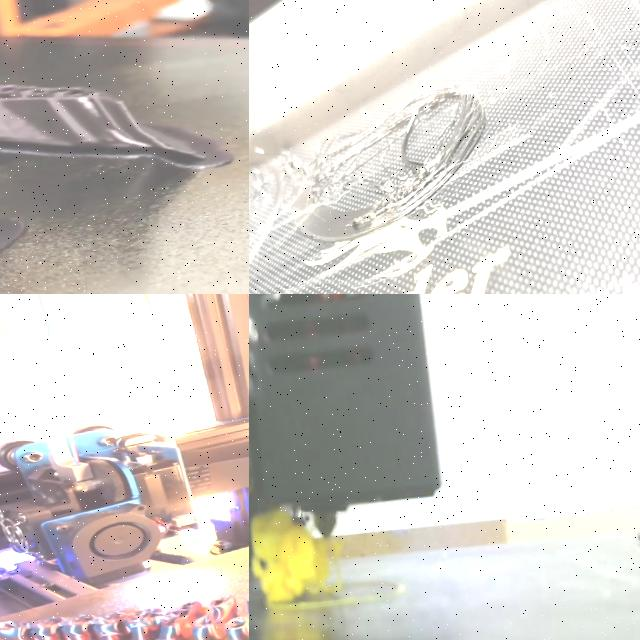spaghetti: (249, 86, 488, 238), (250, 510, 329, 602)
